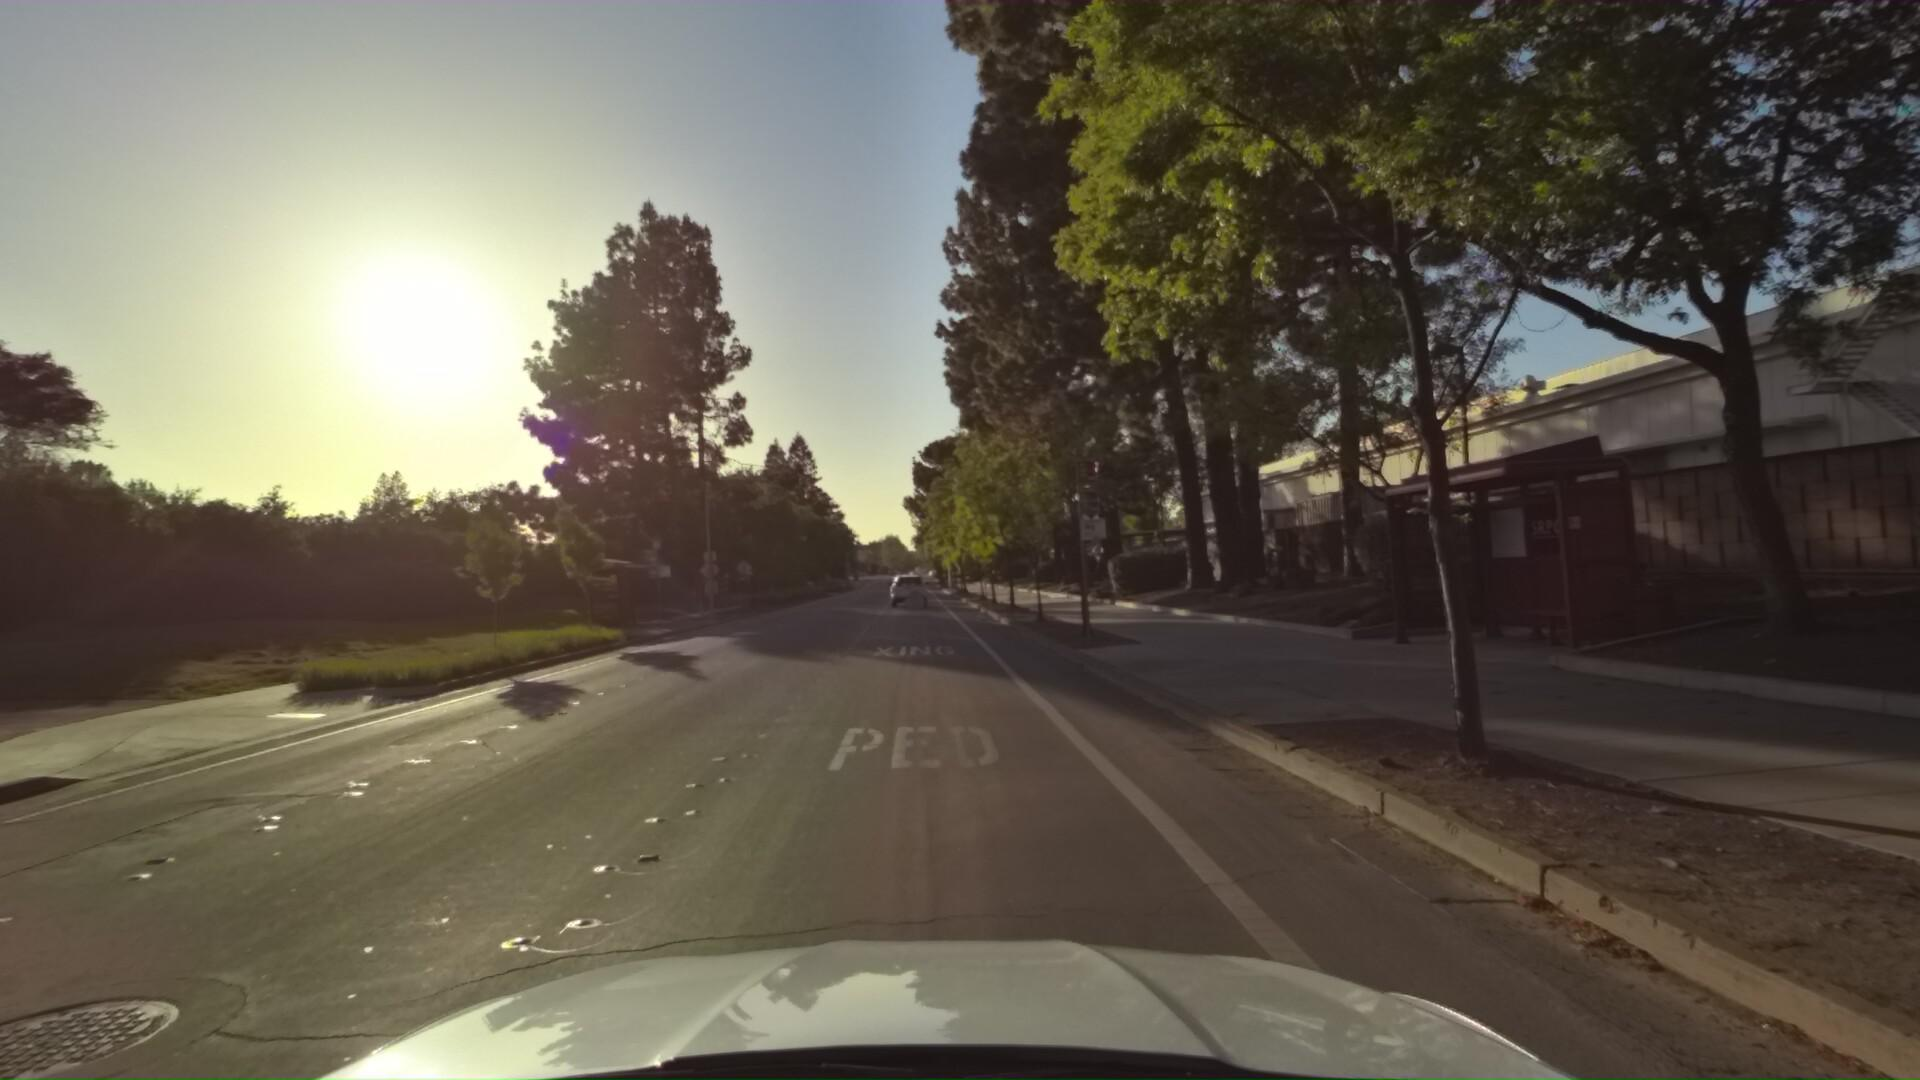car: (887, 567, 930, 607)
